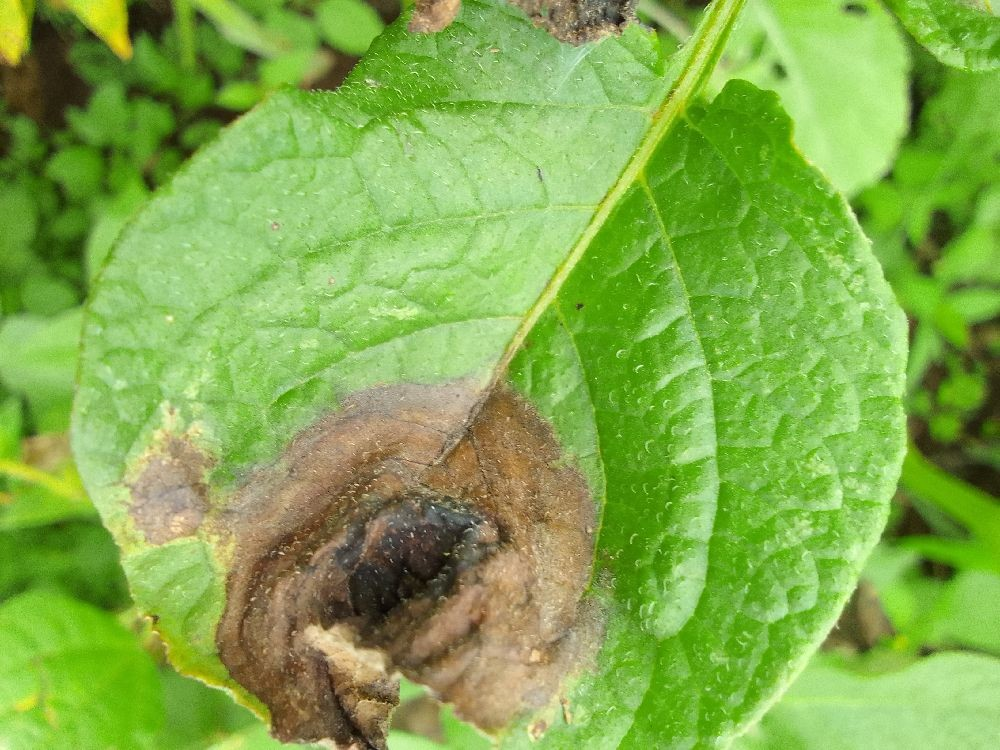late_blight: (110, 347, 614, 749), (887, 294, 1000, 518), (0, 0, 121, 178), (496, 0, 646, 58)
